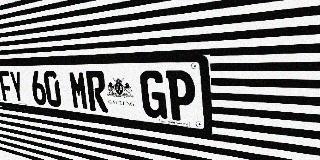0: (43, 71, 62, 107)
6: (29, 71, 47, 106)
F: (0, 71, 14, 102)
G: (140, 71, 168, 119)
M: (68, 71, 89, 111)
P: (166, 70, 196, 123)
R: (85, 71, 108, 113)
Y: (9, 71, 25, 103)
